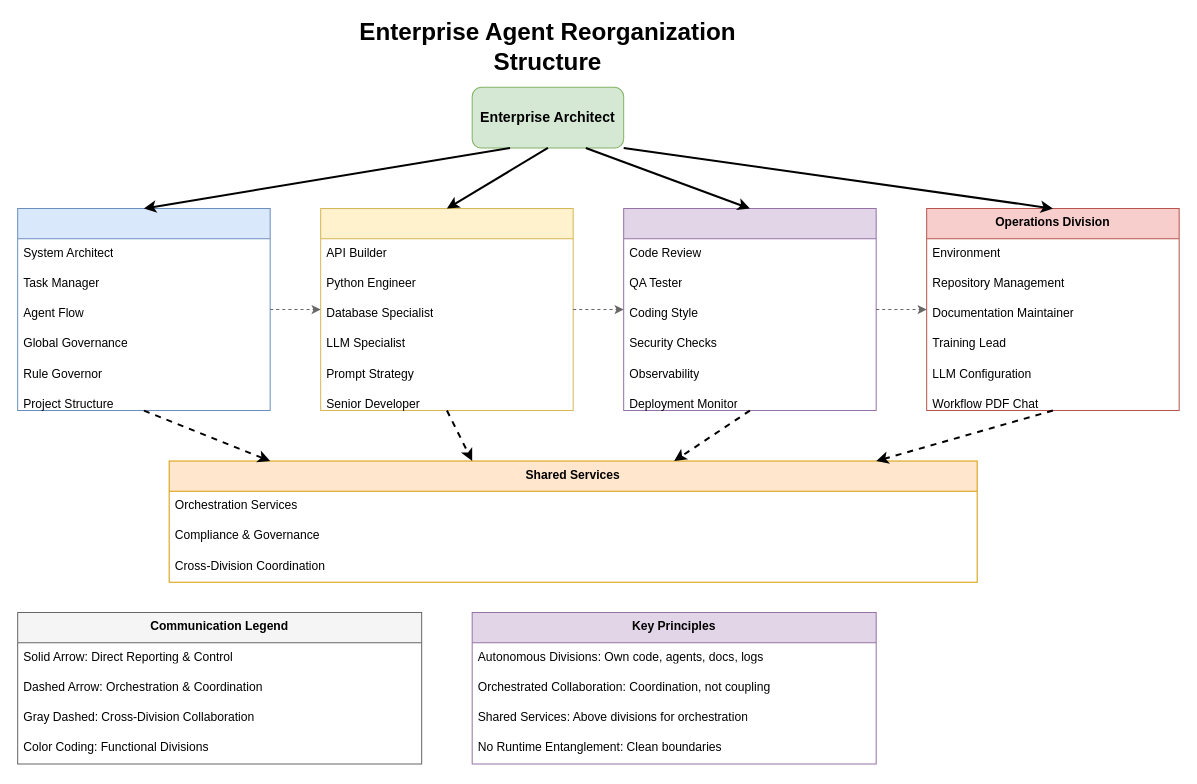
This 1197x784 diagram has some shape labels left out. Here are the shapes that lost their labels. From the top down, the box of each, then its label:
(17, 208, 270, 411): Agent Core Division
(320, 208, 573, 411): Development Division
(623, 208, 876, 411): Quality Division
